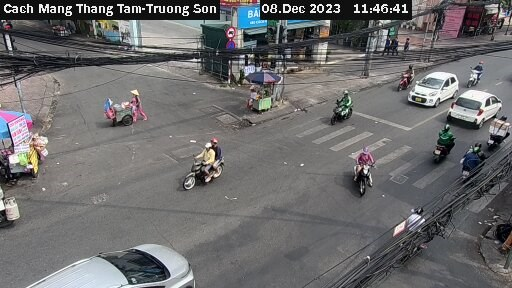car: (4, 240, 200, 288), (447, 85, 500, 127), (406, 69, 456, 109)
motorbike: (179, 147, 234, 194), (392, 202, 431, 260), (344, 150, 383, 201), (454, 136, 485, 185), (330, 89, 360, 133), (427, 125, 454, 163), (486, 114, 510, 148), (464, 59, 488, 87)
